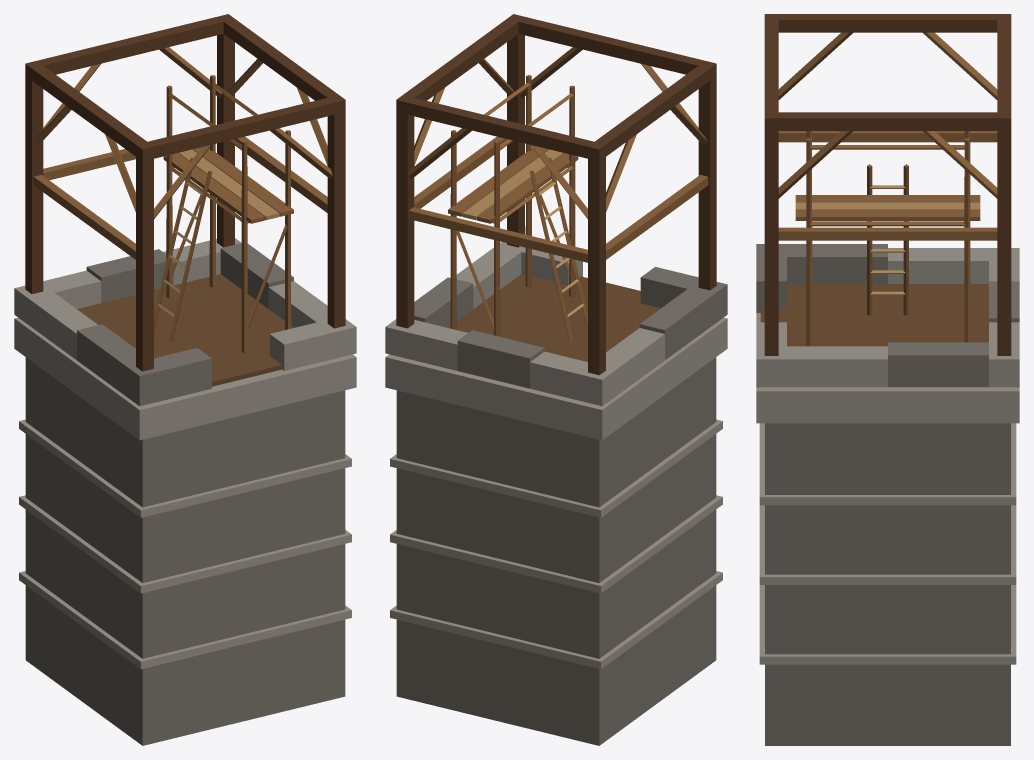
The model's file is site_3x3_2.glb.
3 views of the same model, side by side, from view 1: azimuth 30°, elevation 25°; view 2: azimuth 150°, elevation 25°; view 3: azimuth 270°, elevation 25° (orthographic). The views are drawn at different scales.
Parts seen in each view (by area): view 1: site_3x3_2; view 2: site_3x3_2; view 3: site_3x3_2.
Part boxes in pixels (x1,y1,x2,y2): site_3x3_2: (14, 14, 356, 745); site_3x3_2: (385, 14, 727, 745); site_3x3_2: (756, 14, 1019, 745).
Size of the model in its own units: 3 by 7.88 by 3.
